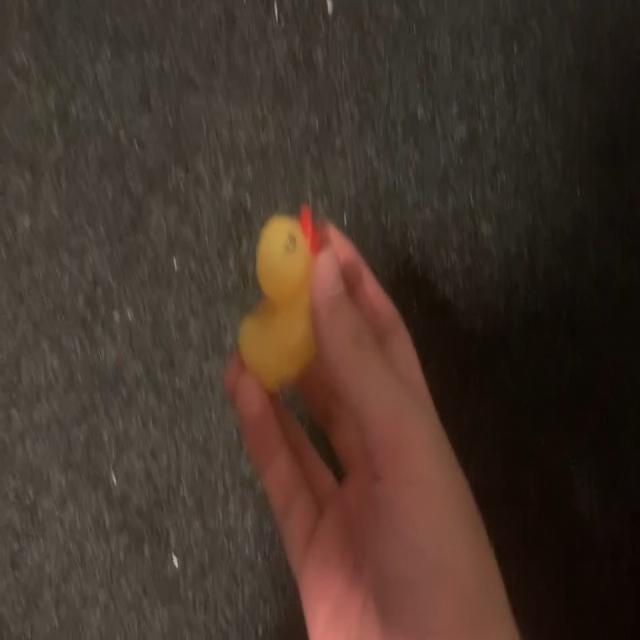rubber-duck: (237, 205, 313, 389)
